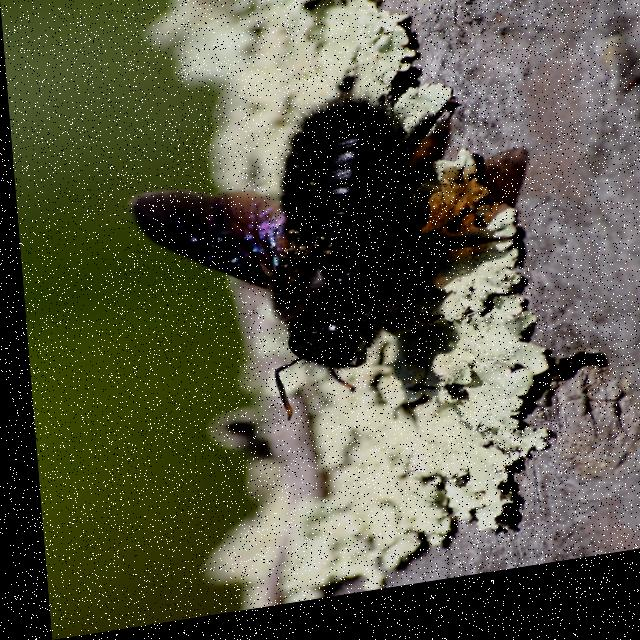Xylocopa: (112, 84, 517, 434)
